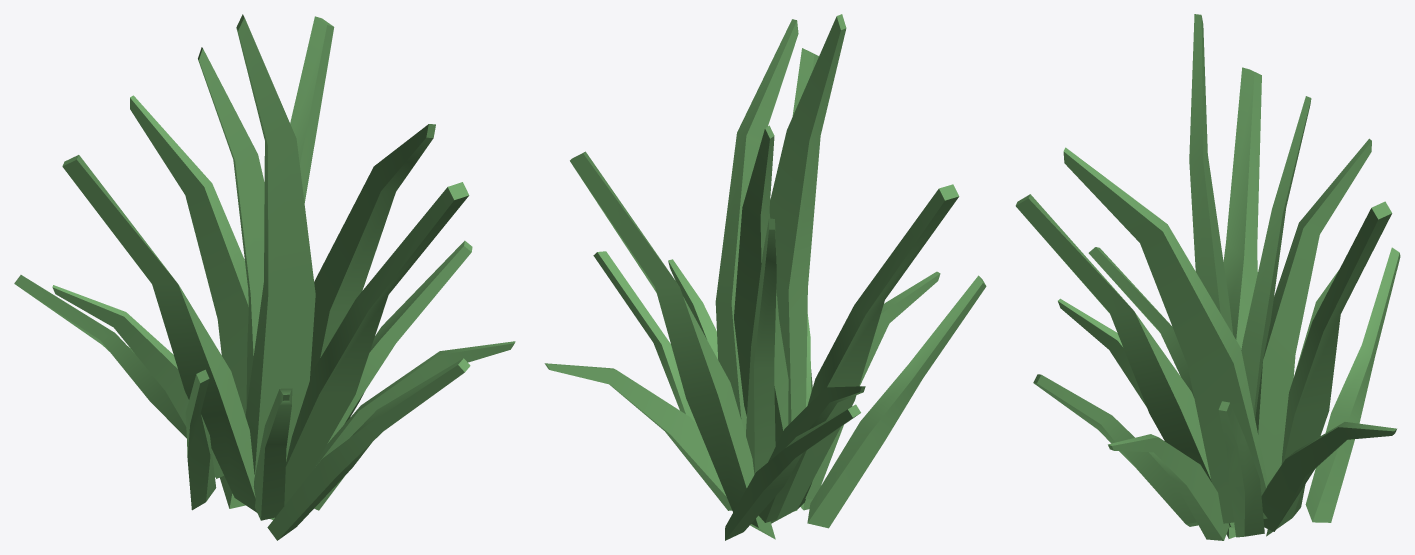
The model's file is Plants_Pack_Grass_blade_012.fbx.
The picture shows the model from 3 angles, left to right: view 1: azimuth 30°, elevation 25°; view 2: azimuth 150°, elevation 25°; view 3: azimuth 270°, elevation 25°; orthographic projection. The views are drawn at different scales.
Visible parts, largest first — view 1: Plants_Pack_Grass_blade_012; view 2: Plants_Pack_Grass_blade_012; view 3: Plants_Pack_Grass_blade_012.
Boxes of the visible parts, x1,y1,x2,y2 form: Plants_Pack_Grass_blade_012: (14, 14, 515, 540); Plants_Pack_Grass_blade_012: (544, 14, 986, 540); Plants_Pack_Grass_blade_012: (1015, 14, 1400, 540).
Size of the model in its own units: 28.18 by 35.96 by 25.04.
